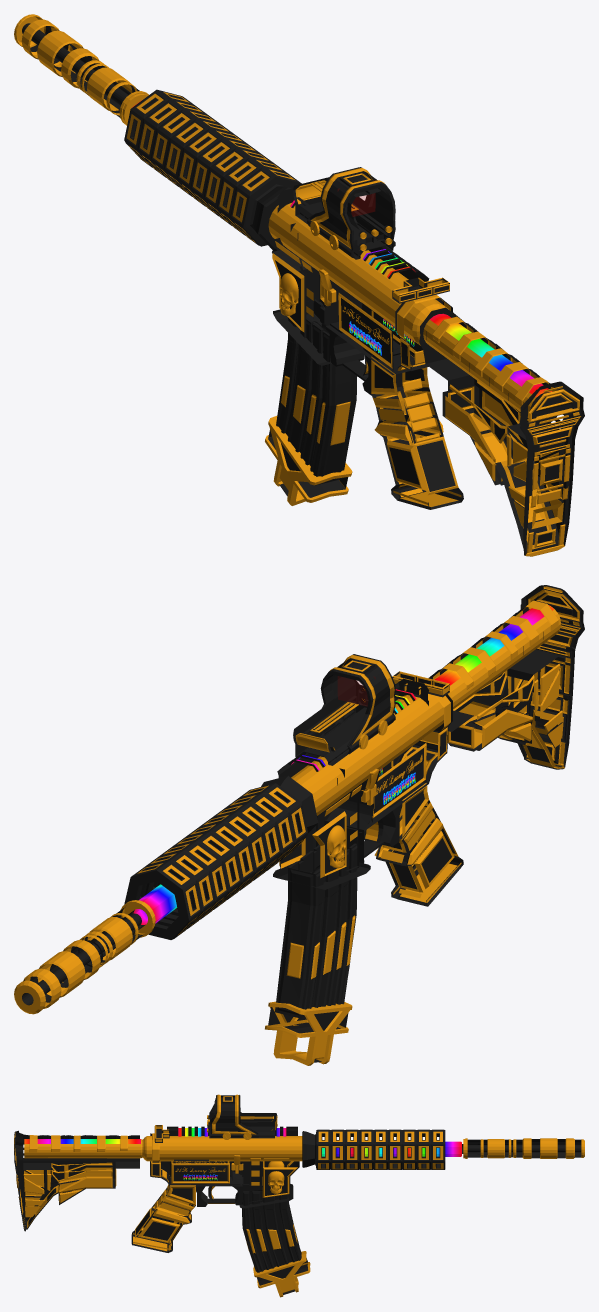
The model's file is RainbowDangerCarbine.glb.
The picture shows the model from 3 angles, top to bottom: view 1: azimuth 30°, elevation 25°; view 2: azimuth 150°, elevation 25°; view 3: azimuth 270°, elevation 25°; orthographic projection. The views are drawn at different scales.
Visible parts, largest first — view 1: LuxCarbine; view 2: LuxCarbine; view 3: LuxCarbine.
Part boxes in pixels (x1,y1,x2,y2): LuxCarbine: (14, 14, 584, 556); LuxCarbine: (14, 585, 584, 1065); LuxCarbine: (14, 1094, 584, 1297).
Size of the model in its own units: 1.28 by 6.7 by 17.79.
4 materials, 1 textured.
